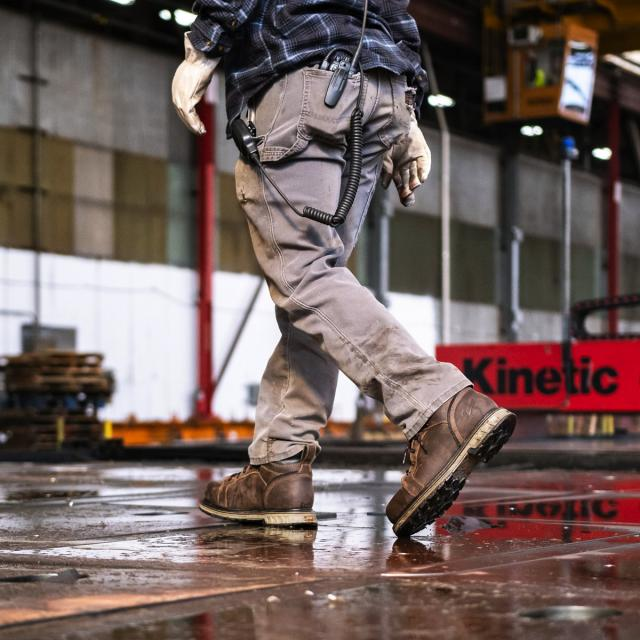Boots: (385, 381, 522, 545), (194, 445, 324, 530)
